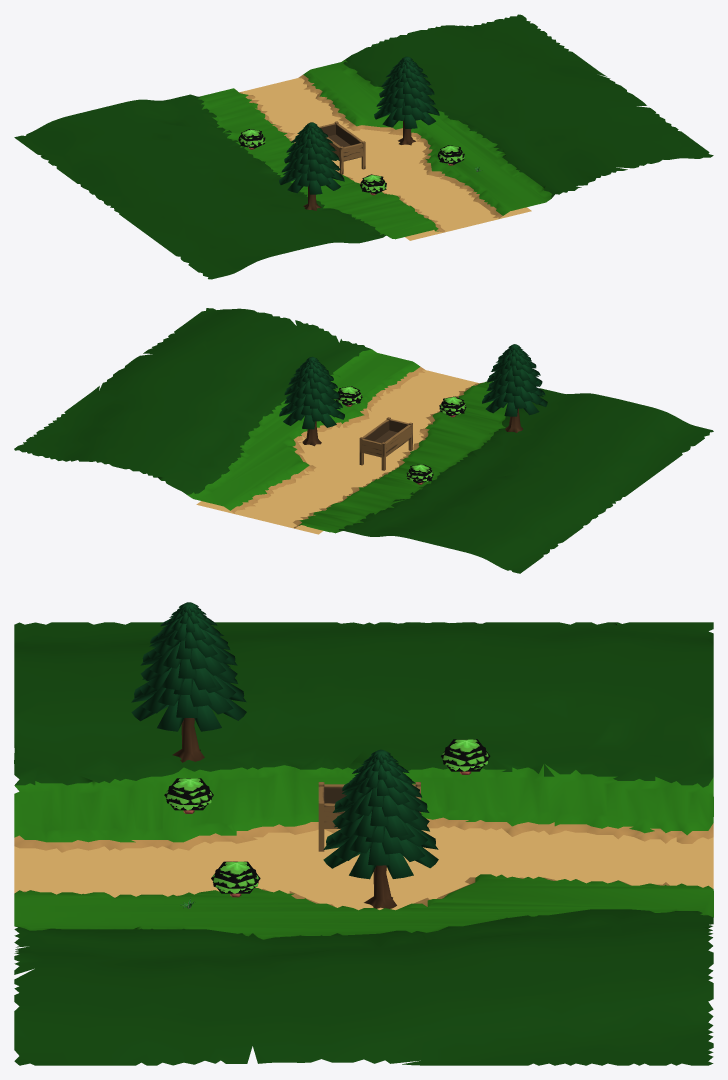
Rendered from iroutest.glb.
3 views of the same model, one above another, from view 1: azimuth 30°, elevation 25°; view 2: azimuth 150°, elevation 25°; view 3: azimuth 270°, elevation 25° (orthographic). The views are drawn at different scales.
Parts seen in each view (by area): view 1: Plane, Plane.001, woodbin, Cylinder.008, Cylinder.022, Cylinder.009, Cylinder.023; view 2: Plane, Plane.001, woodbin, Cylinder.008, Cylinder.022, Cylinder.023, Cylinder.009; view 3: Plane, Plane.001, Cylinder.008, Cylinder.022, Cylinder.023, Cylinder.009, bush, bush.001, bush.002, woodbin, Cylinder, Cylinder.014 (+10 smaller).
Boxes of the visible parts, x1=… form: Plane: x1=14, y1=14, x2=713, y2=279; Plane.001: x1=240, y1=78, x2=531, y2=240; woodbin: x1=319, y1=121, x2=365, y2=174; Cylinder.008: x1=279, y1=171, x2=344, y2=194; Cylinder.022: x1=374, y1=105, x2=439, y2=128; Cylinder.009: x1=281, y1=166, x2=342, y2=186; Cylinder.023: x1=376, y1=101, x2=437, y2=120; Plane: x1=14, y1=308, x2=713, y2=573; Plane.001: x1=196, y1=370, x2=478, y2=534; woodbin: x1=359, y1=417, x2=412, y2=470; Cylinder.008: x1=482, y1=394, x2=547, y2=416; Cylinder.022: x1=279, y1=407, x2=344, y2=429; Cylinder.023: x1=281, y1=399, x2=342, y2=421; Cylinder.009: x1=484, y1=386, x2=545, y2=408; Plane: x1=14, y1=622, x2=713, y2=1065; Plane.001: x1=14, y1=826, x2=713, y2=910; Cylinder.008: x1=131, y1=692, x2=246, y2=731; Cylinder.022: x1=323, y1=840, x2=438, y2=879; Cylinder.023: x1=326, y1=826, x2=435, y2=865; Cylinder.009: x1=134, y1=678, x2=244, y2=717; bush: x1=164, y1=778, x2=213, y2=810; bush.001: x1=441, y1=739, x2=490, y2=771; bush.002: x1=211, y1=861, x2=260, y2=893; woodbin: x1=318, y1=782, x2=420, y2=851; Cylinder: x1=140, y1=657, x2=237, y2=690; Cylinder.014: x1=332, y1=804, x2=429, y2=837.
Size of the model in its own units: 18 by 3.22 by 12.01.
10 materials, 4 textured.
